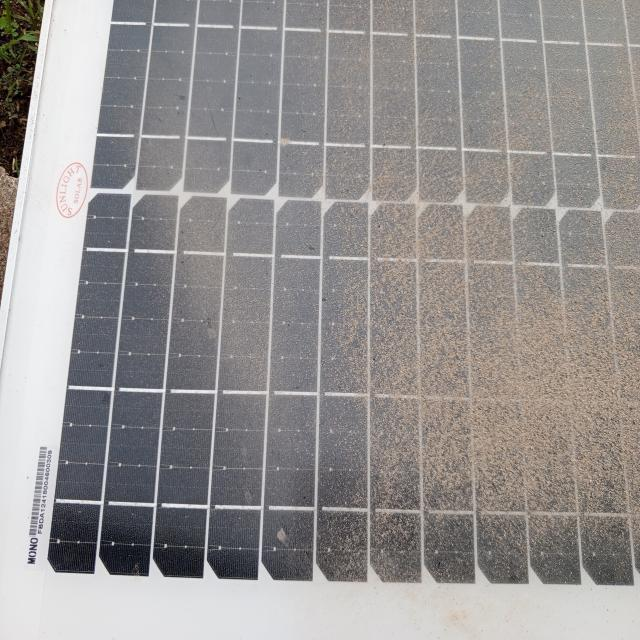Surface Contaminant: (110, 2, 639, 583)
